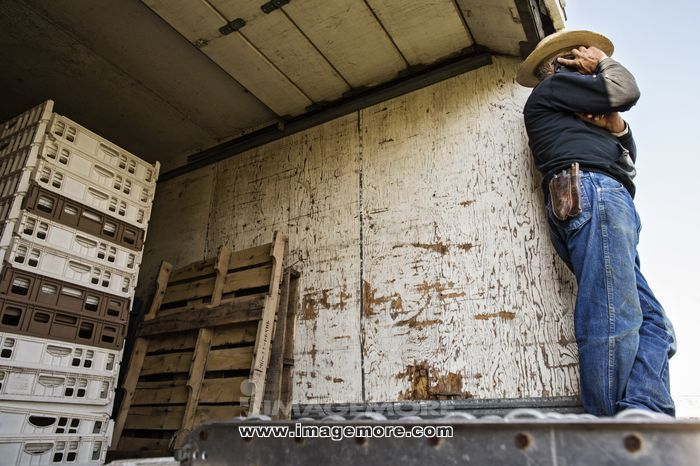phone: (548, 54, 599, 84)
